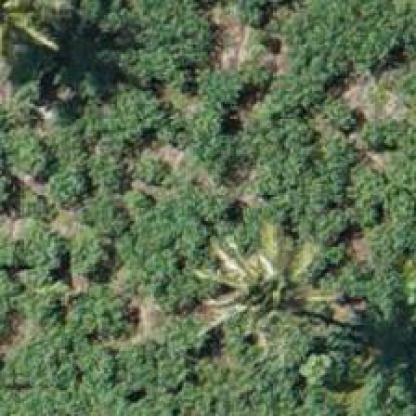coconut tree: (220, 241, 304, 313)
